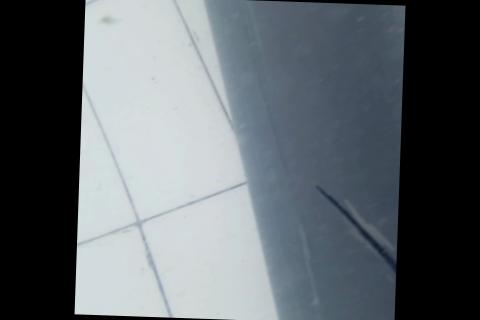keretakan: (308, 182, 399, 275)
